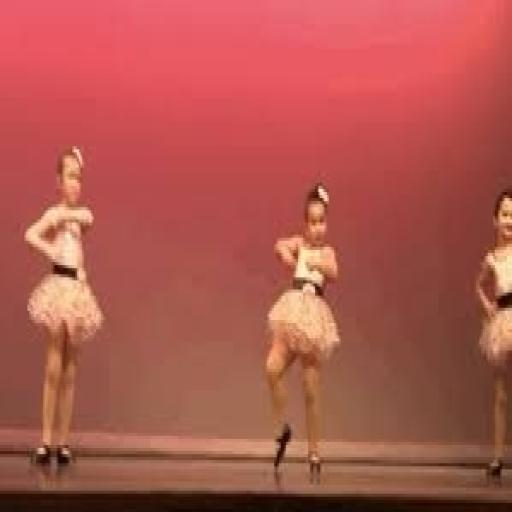dancing: (20, 140, 108, 472), (260, 176, 344, 488), (473, 182, 510, 488)
